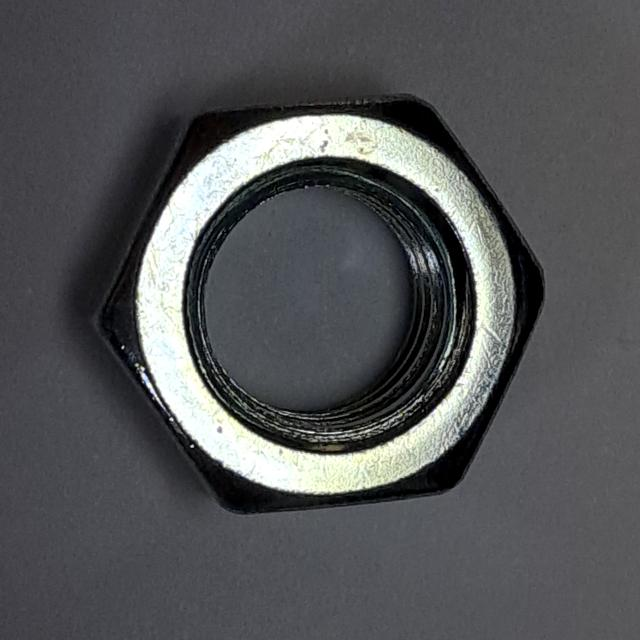Excellent: (66, 79, 558, 528)
